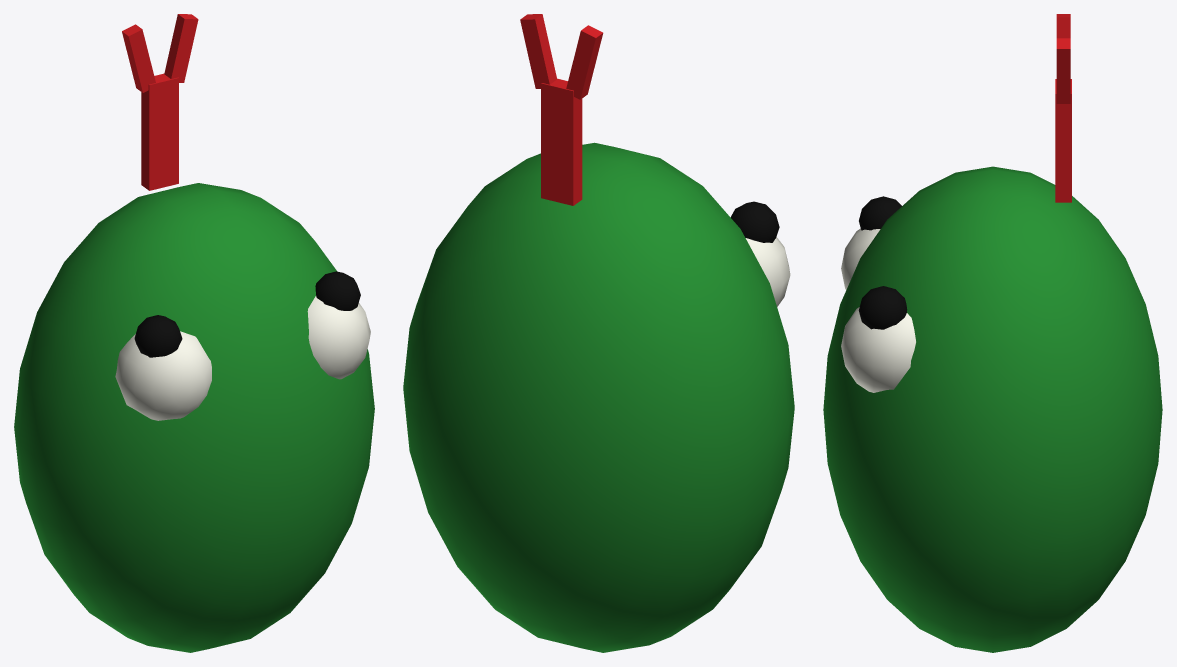
File: snake_head.obj
3 renders of one model, left to right at view 1: azimuth 30°, elevation 25°; view 2: azimuth 150°, elevation 25°; view 3: azimuth 270°, elevation 25°, orthographic. The views are drawn at different scales.
Parts seen in each view (by area): view 1: snake_head_skin, snake_head_eye_white, snake_head_tongue, snake_head_pupil; view 2: snake_head_skin, snake_head_tongue, snake_head_eye_white, snake_head_pupil; view 3: snake_head_skin, snake_head_eye_white, snake_head_tongue, snake_head_pupil.
Part boxes in pixels (left/top/right/bottom): snake_head_skin: left=14, top=183, right=374, bottom=652; snake_head_eye_white: left=115, top=296, right=370, bottom=420; snake_head_tongue: left=122, top=14, right=198, bottom=190; snake_head_pupil: left=134, top=271, right=360, bottom=357; snake_head_skin: left=403, top=142, right=794, bottom=652; snake_head_tongue: left=520, top=14, right=603, bottom=205; snake_head_eye_white: left=745, top=237, right=790, bottom=306; snake_head_pupil: left=731, top=201, right=779, bottom=242; snake_head_skin: left=823, top=166, right=1162, bottom=652; snake_head_eye_white: left=841, top=228, right=915, bottom=392; snake_head_tongue: left=1055, top=14, right=1071, bottom=202; snake_head_pupil: left=858, top=196, right=907, bottom=329.
Size of the model in its own units: 0.54 by 0.9528 by 0.48.
